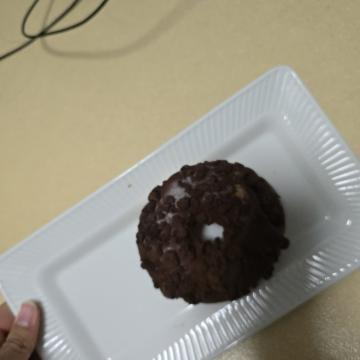doughnut: (146, 66, 321, 239)
